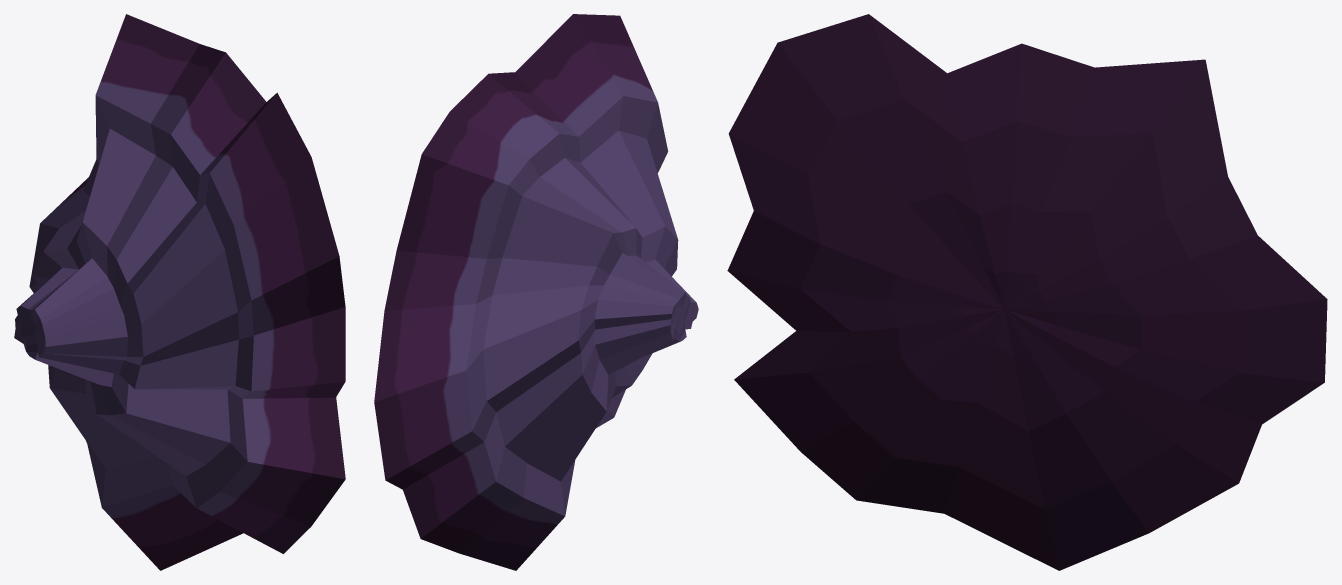
Rendered from IslaDesaparece.fbx.
3 views of the same model, side by side, from view 1: azimuth 30°, elevation 25°; view 2: azimuth 150°, elevation 25°; view 3: azimuth 270°, elevation 25° (orthographic). The views are drawn at different scales.
Parts seen in each view (by area): view 1: Isla Flotante; view 2: Isla Flotante; view 3: Isla Flotante.
Part boxes in pixels (x1,y1,x2,y2): Isla Flotante: (14,14,345,570); Isla Flotante: (374,14,698,570); Isla Flotante: (727,14,1327,570).
Bounding box in the file's own units: 4058 × 8454 × 8050.
